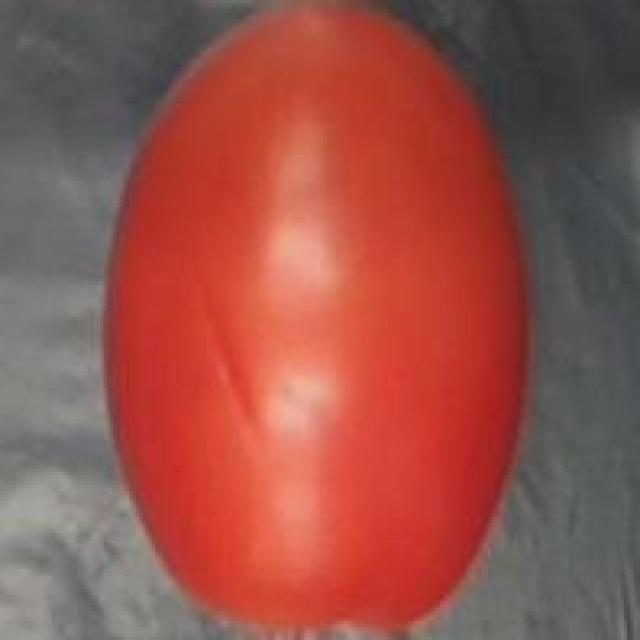ripe tomato: (90, 3, 546, 640)
